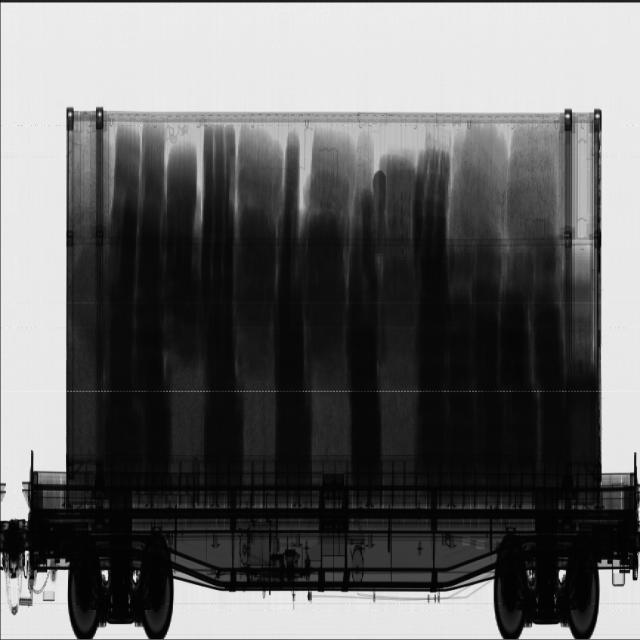clothes: (415, 169, 596, 461), (98, 121, 241, 458)
textiles: (239, 125, 593, 463)
